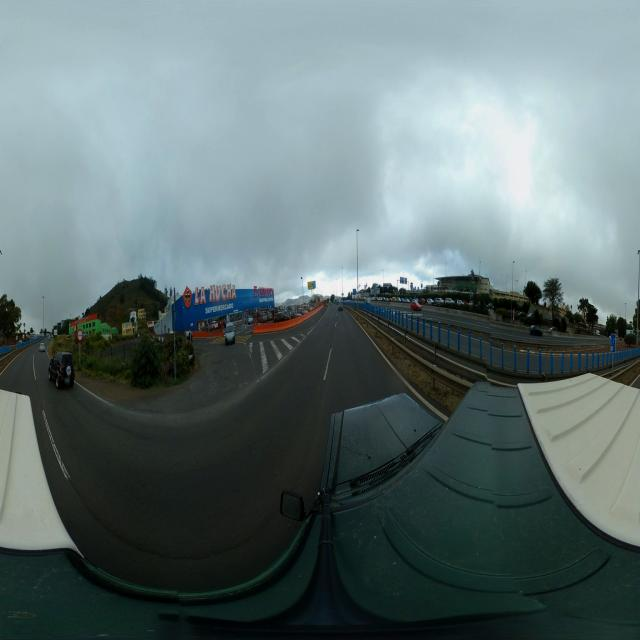car: (52, 351, 76, 389), (224, 322, 236, 346), (48, 358, 57, 383), (530, 325, 544, 337), (38, 340, 47, 353)
